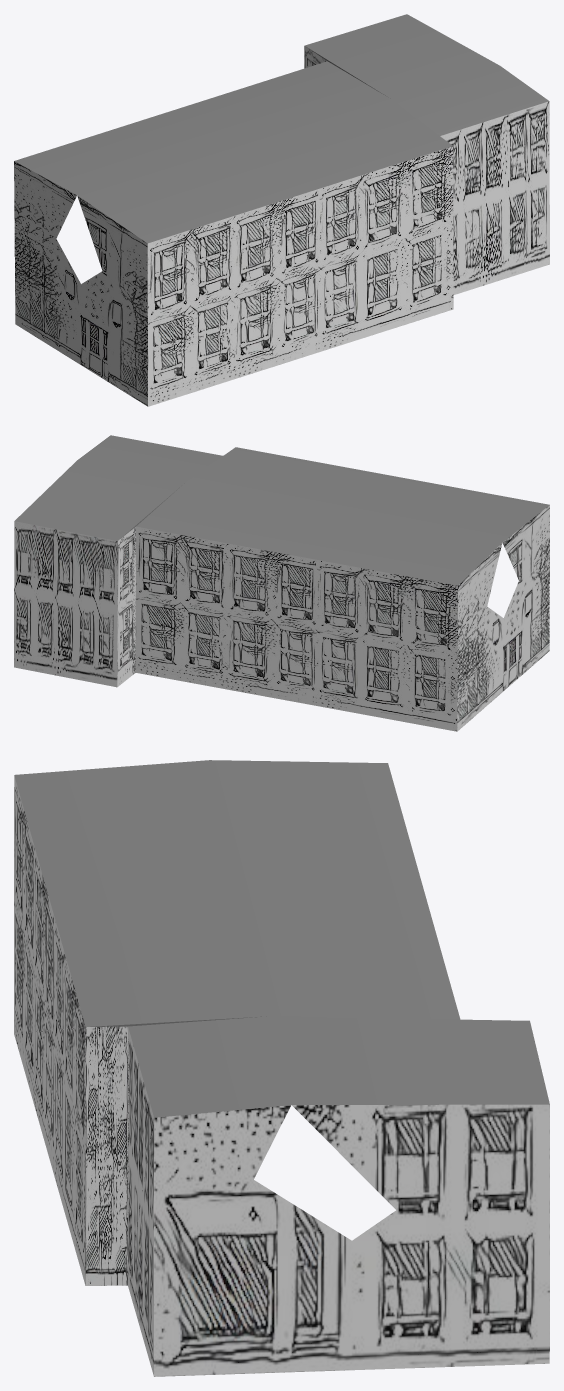
Rendered from Neuffer-Bau.gltf.
The picture shows the model from 3 angles, top to bottom: view 1: azimuth 30°, elevation 25°; view 2: azimuth 150°, elevation 25°; view 3: azimuth 270°, elevation 25°; orthographic projection. The views are drawn at different scales.
Parts seen in each view (by area): view 1: Dach.1; view 2: Dach.1; view 3: Dach.1.
Part boxes in pixels (x1,y1,x2,y2): Dach.1: [14, 14, 549, 406]; Dach.1: [14, 435, 549, 731]; Dach.1: [14, 760, 549, 1376].
Bounding box in the file's own units: 37.29 × 13.1 × 23.66.
Materials: 8 (7 with a texture image).
